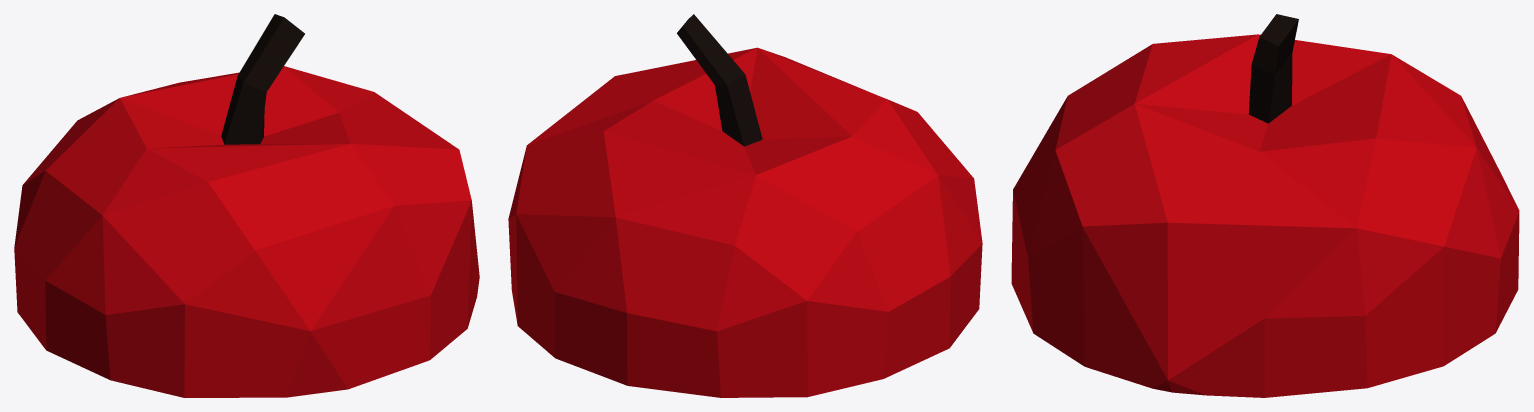
The model's file is apple_top.obj.
3 renders of one model, left to right at view 1: azimuth 30°, elevation 25°; view 2: azimuth 150°, elevation 25°; view 3: azimuth 270°, elevation 25°, orthographic. The views are drawn at different scales.
Parts seen in each view (by area): view 1: apple_top; view 2: apple_top; view 3: apple_top.
Part boxes in pixels (x1,y1,x2,y2): apple_top: (14, 14, 479, 397); apple_top: (508, 14, 982, 397); apple_top: (1011, 14, 1519, 397).
Size of the model in its own units: 1.53 by 0.9954 by 1.52.
